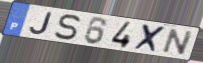4: (109, 20, 132, 49)
6: (83, 16, 109, 46)
J: (28, 11, 53, 36)
N: (160, 28, 195, 57)
S: (53, 13, 82, 41)
X: (132, 23, 169, 54)
